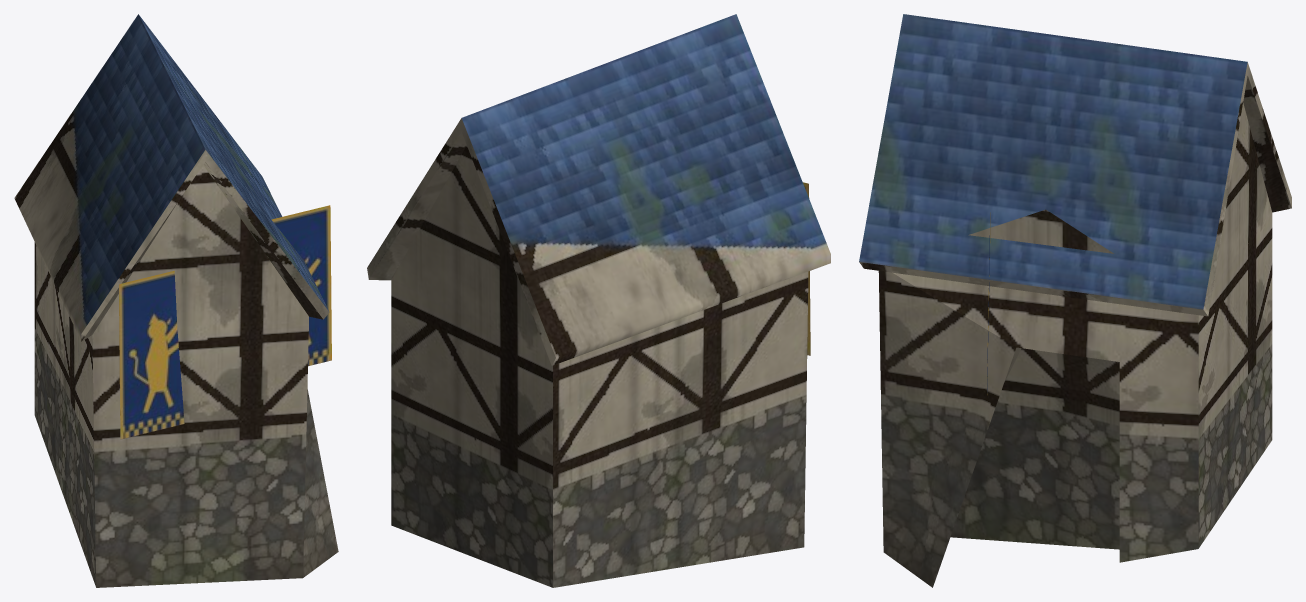
The model's file is house_04_card_lod1.glb.
3 renders of one model, left to right at view 1: azimuth 30°, elevation 25°; view 2: azimuth 150°, elevation 25°; view 3: azimuth 270°, elevation 25°, orthographic. The views are drawn at different scales.
Parts seen in each view (by area): view 1: house_04_game_card; view 2: house_04_game_card; view 3: house_04_game_card.
Boxes of the visible parts, x1=… form: house_04_game_card: x1=14, y1=14, x2=338, y2=587; house_04_game_card: x1=367, y1=14, x2=830, y2=587; house_04_game_card: x1=859, y1=14, x2=1291, y2=587.
Size of the model in its own units: 5.64 by 8.13 by 6.45.
Materials: 1 (1 with a texture image).
